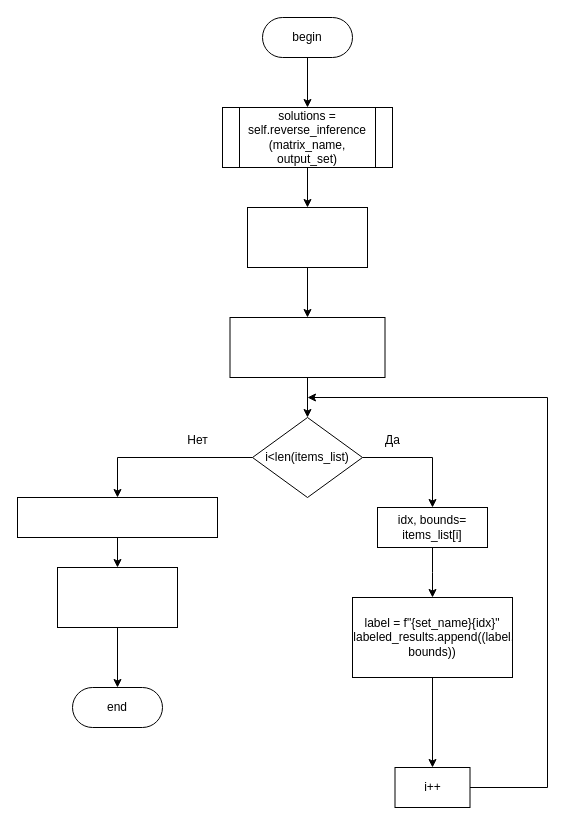
Some shapes in this 573 by 825 pixel diagram are drawn without their labels. Each missing label, with the centre of its shape:
"items_list = list(enumerate(solutions, start=1)) i=0" goes at [307,347].
"labeled_results = []" goes at [307,237].
"return" goes at [117,597].
"self.reverse_results[inference_name] = labeled_results" goes at [117,517].
